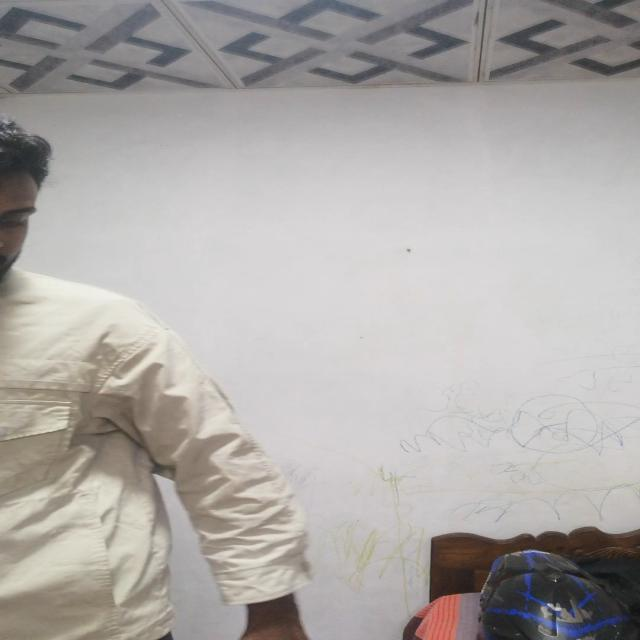Jacket_Wearer: (0, 250, 310, 625)
Person: (0, 124, 324, 640)
